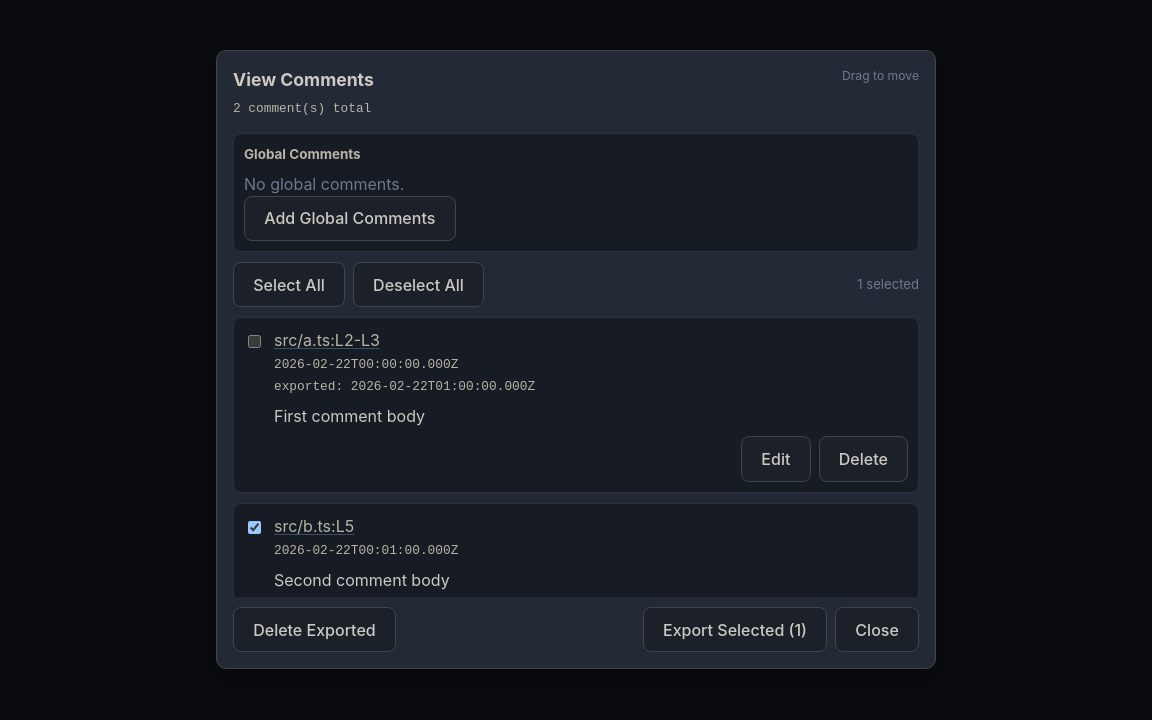
CommentListModal › Deselect All unchecks all comments
Click the button "Deselect All": {"x": 418, "y": 285} [353,262,484,308]
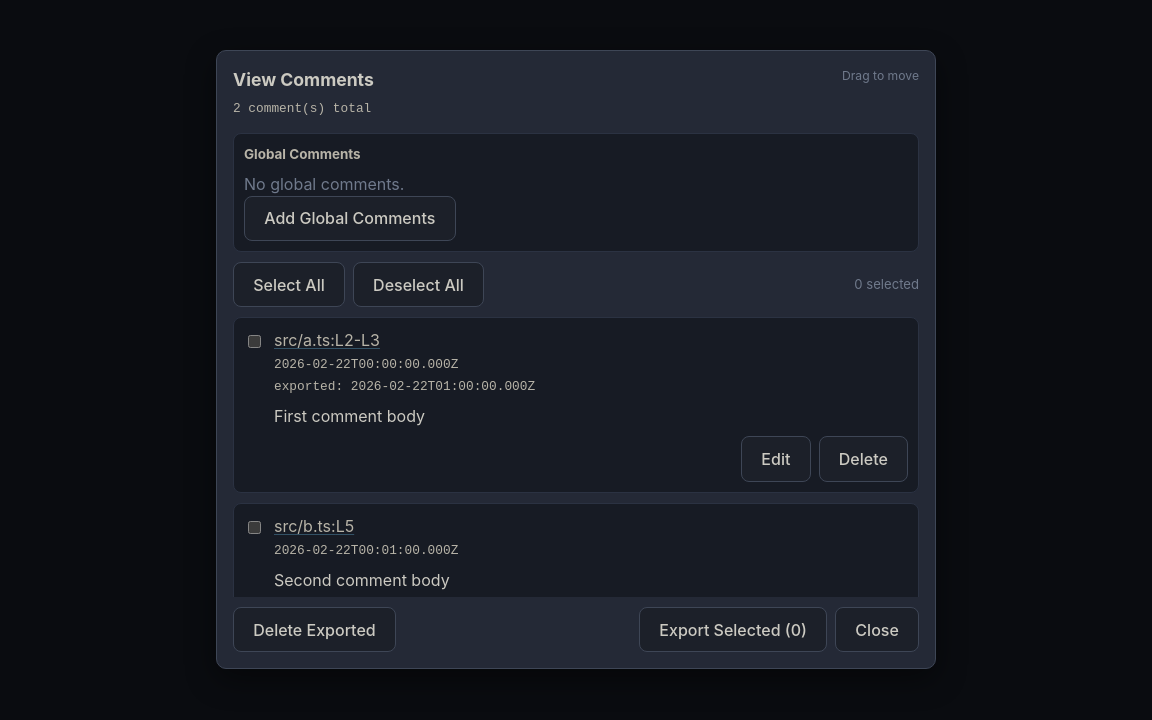
Expected: the checkbox named "Select comment from src/a.ts:L2-L3" is not checked, [248,336,261,348]
Now the checkbox named "Select comment from src/b.ts:L5" is not checked, box [248,521,261,534]
Now the text with test id "comment-list-selection-count" reads "0 selected", box [854,275,919,295]
